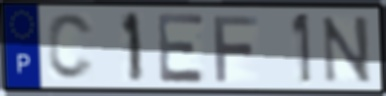1: (117, 10, 147, 85), (289, 11, 314, 88)
C: (46, 11, 96, 83)
E: (155, 11, 208, 85)
F: (211, 13, 261, 84)
N: (320, 14, 374, 85)
